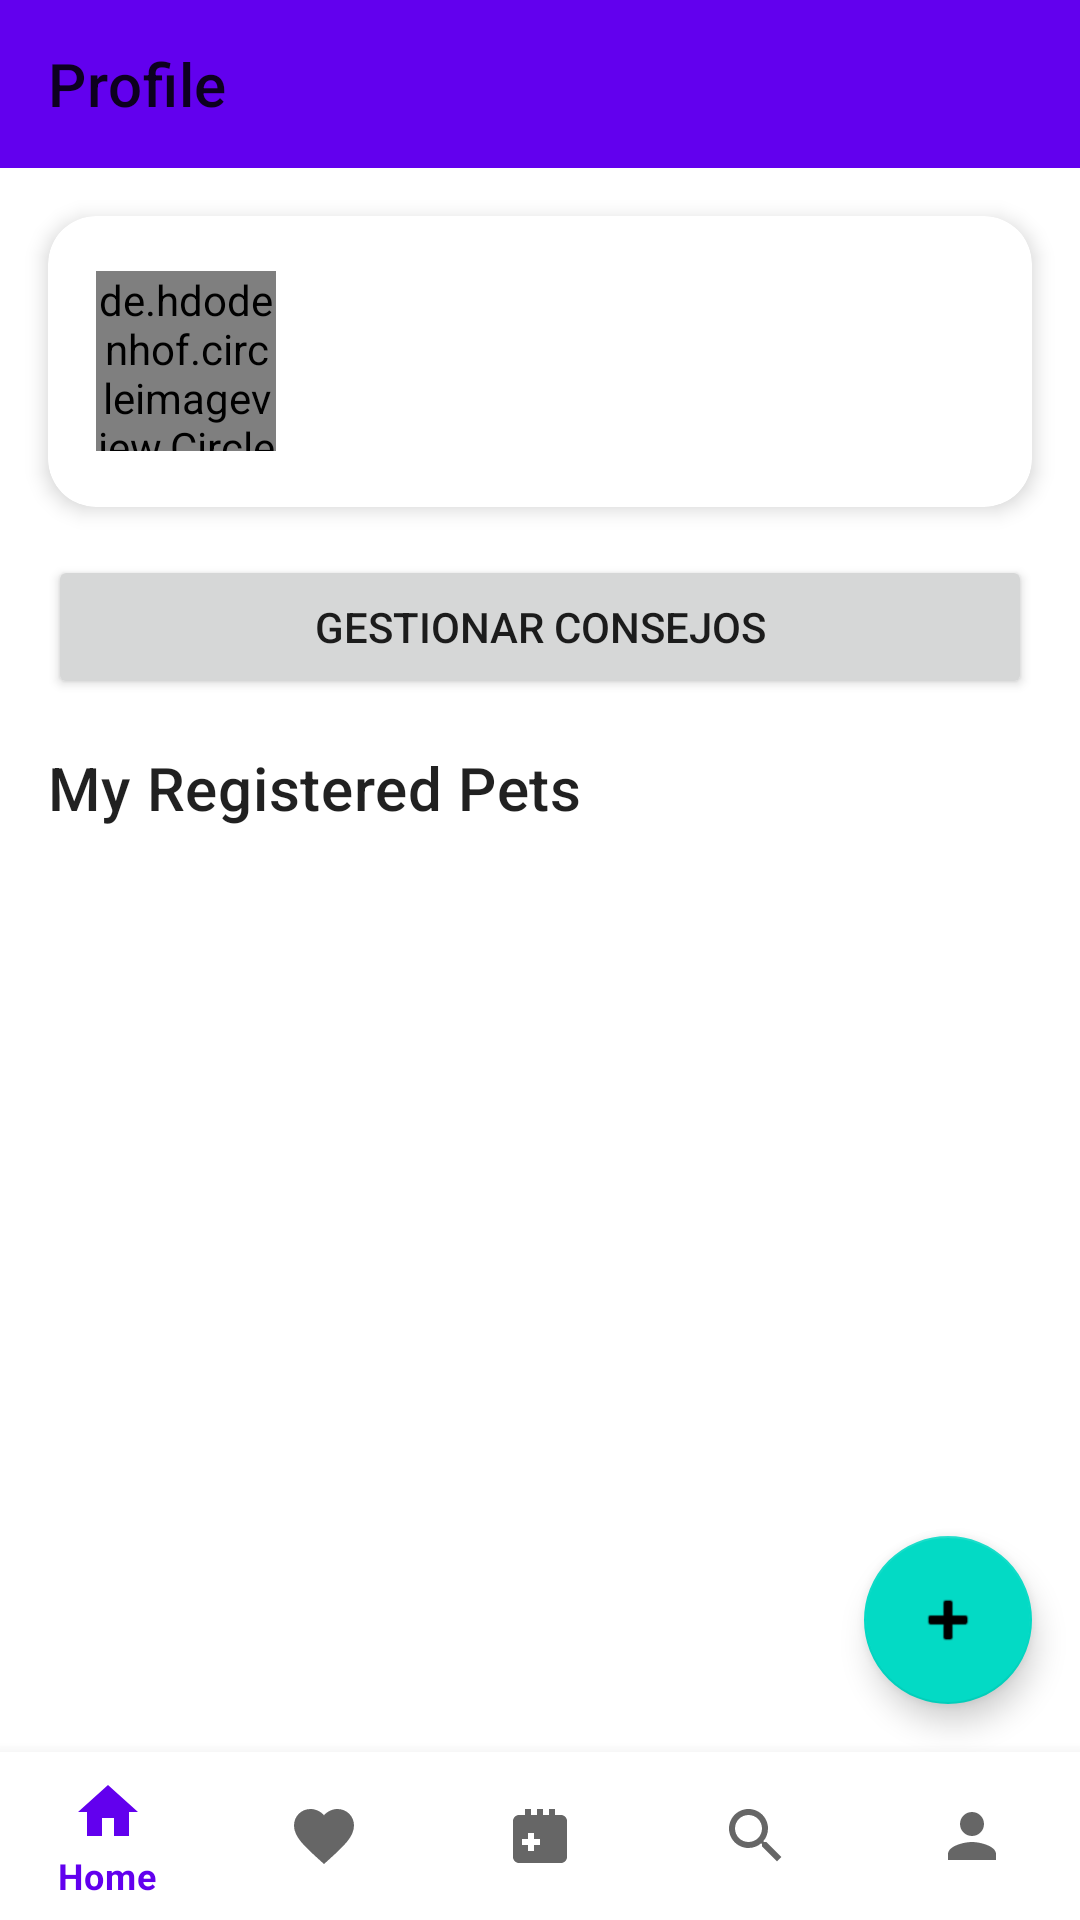

Named icons in this screenshot (1080×1920) and their bounding boxes, rect(x1, y1, x2, y2):
add: rect(864, 1536, 1032, 1704)
